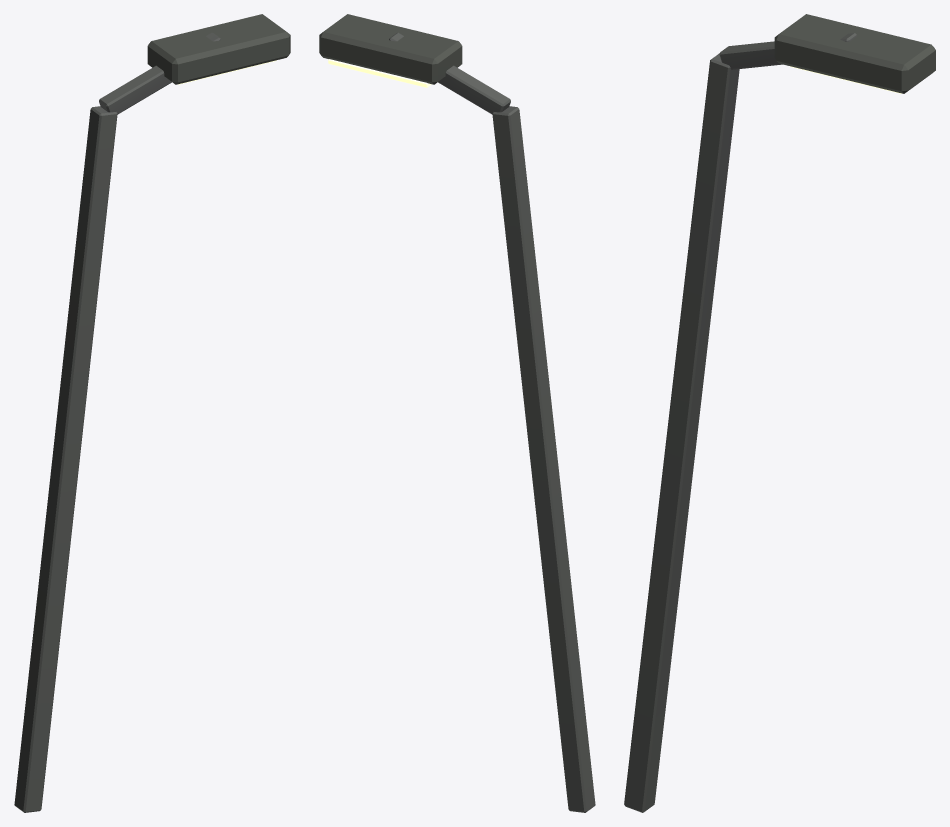
The model's file is AC_Streetlight.glb.
The picture shows the model from 3 angles, left to right: view 1: azimuth 30°, elevation 25°; view 2: azimuth 150°, elevation 25°; view 3: azimuth 330°, elevation 25°; orthographic projection. The views are drawn at different scales.
Parts seen in each view (by area): view 1: AC_Streetlight__Body; view 2: AC_Streetlight__Body, AC_Streetlight__Light; view 3: AC_Streetlight__Body.
Boxes of the visible parts, left/top/right/bottom form: AC_Streetlight__Body: left=14, top=14, right=290, bottom=812; AC_Streetlight__Body: left=319, top=14, right=595, bottom=812; AC_Streetlight__Light: left=328, top=59, right=431, bottom=87; AC_Streetlight__Body: left=624, top=14, right=935, bottom=812.
Bounding box in the file's own units: 6.78 × 18.2 × 1.3.
